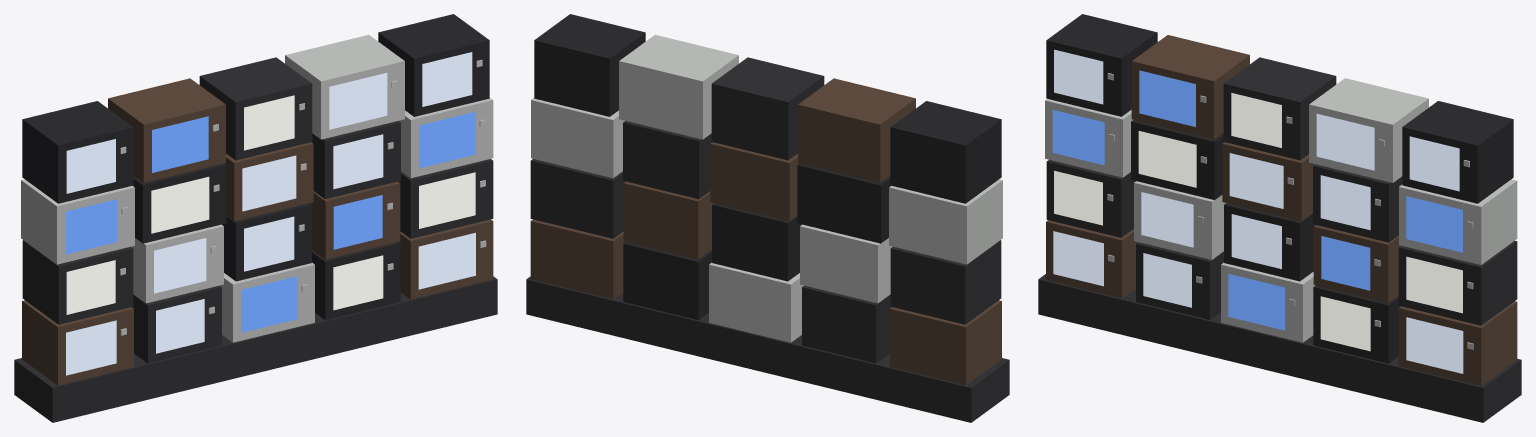
File: town_crt_wall.gltf
The picture shows the model from 3 angles, left to right: view 1: azimuth 30°, elevation 25°; view 2: azimuth 150°, elevation 25°; view 3: azimuth 330°, elevation 25°; orthographic projection.
Visible parts, largest first — view 1: TownCrtWall_Sets, TownCrtWall_Screens_Glow, TownCrtWall_Shelf, TownCrtWall_Knobs; view 2: TownCrtWall_Sets, TownCrtWall_Shelf; view 3: TownCrtWall_Sets, TownCrtWall_Screens_Glow, TownCrtWall_Shelf, TownCrtWall_Knobs.
Part boxes in pixels (bbox=[...]): TownCrtWall_Sets: bbox=[21, 14, 493, 385]; TownCrtWall_Screens_Glow: bbox=[65, 52, 475, 375]; TownCrtWall_Shelf: bbox=[14, 276, 497, 422]; TownCrtWall_Knobs: bbox=[120, 60, 486, 335]; TownCrtWall_Sets: bbox=[530, 14, 1002, 385]; TownCrtWall_Shelf: bbox=[526, 276, 1009, 422]; TownCrtWall_Sets: bbox=[1045, 14, 1517, 386]; TownCrtWall_Screens_Glow: bbox=[1052, 49, 1463, 373]; TownCrtWall_Shelf: bbox=[1038, 274, 1521, 422]; TownCrtWall_Knobs: bbox=[1107, 73, 1473, 349].
Size of what is drawn, in the model's own units: 4 by 2.36 by 0.5999.
2 materials, 2 textured.
